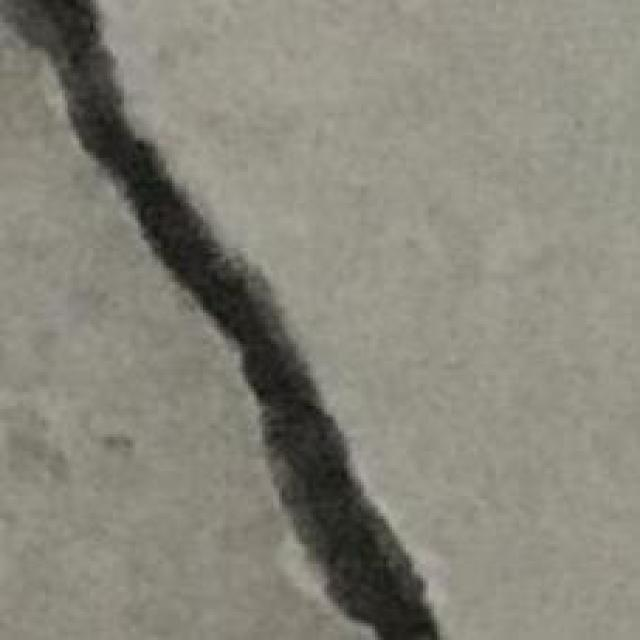Diagonal: (5, 0, 444, 640)
